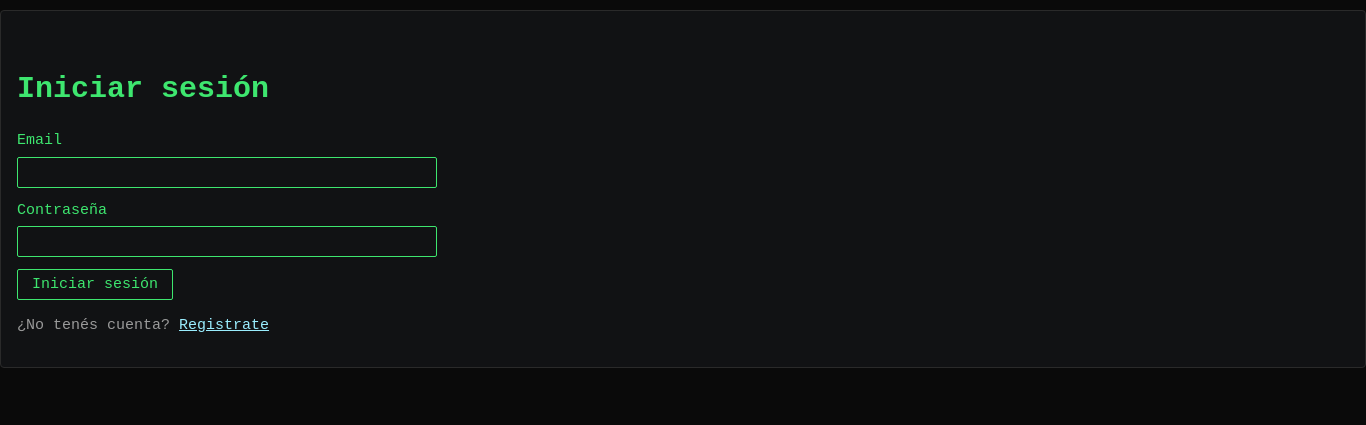
Test case: LoginPage › shows_a_validation_error_and_does_not_call_the_api_when_a_field_is_empty
Click the button "Iniciar sesión" at point(95, 284), box [17,269,173,300]
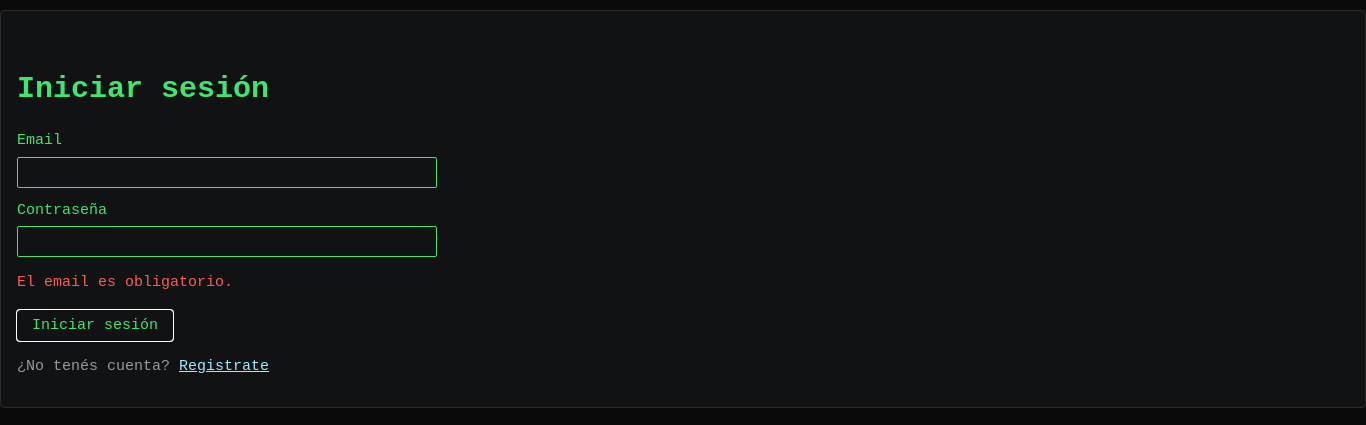
Check: the message reads "El email es obligatorio.", box [17,274,233,291]
